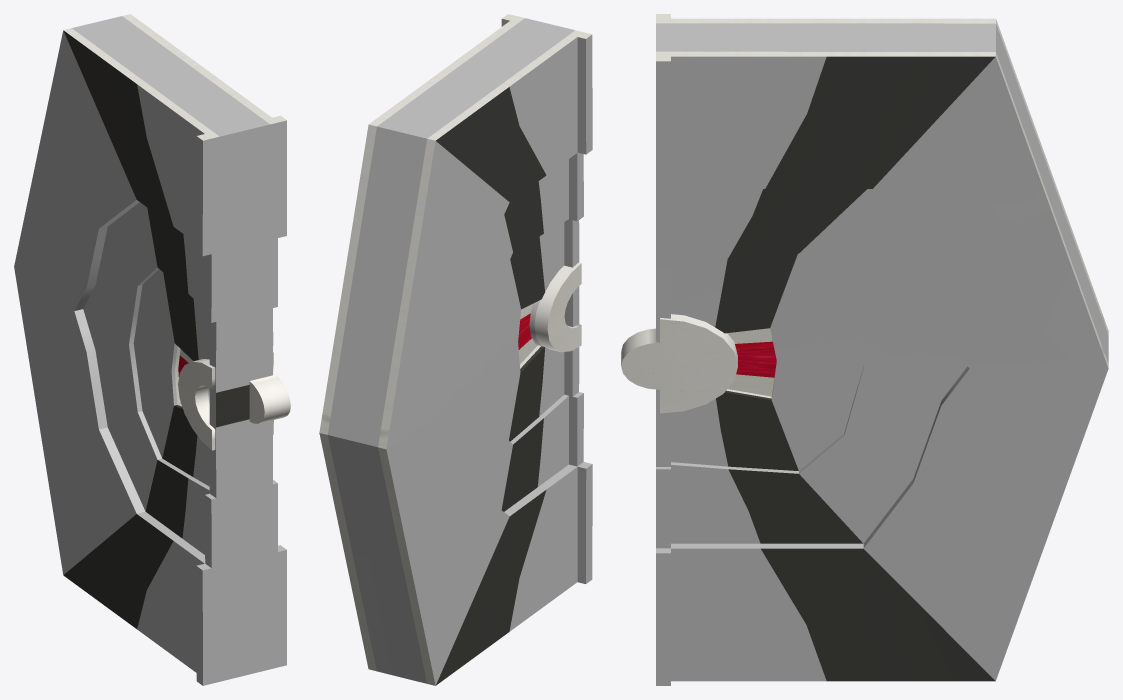
File: Hallway_Door.ma.fbx
3 renders of one model, left to right at view 1: azimuth 30°, elevation 25°; view 2: azimuth 150°, elevation 25°; view 3: azimuth 270°, elevation 25°, orthographic. The views are drawn at different scales.
Visible parts, largest first — view 1: Hallway_Door; view 2: Hallway_Door; view 3: Hallway_Door.
Part boxes in pixels (x1,y1,x2,y2): Hallway_Door: (14,14,290,685); Hallway_Door: (319,14,592,685); Hallway_Door: (621,14,1108,685).
Bounding box in the file's own units: 0.2149 × 1.33 × 0.938.
